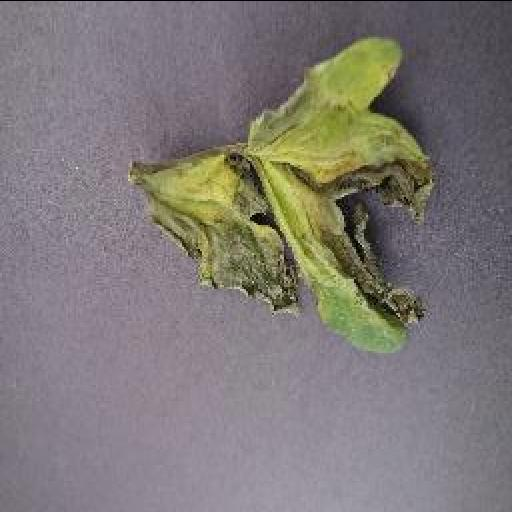disease_tomato: (137, 30, 443, 350)
